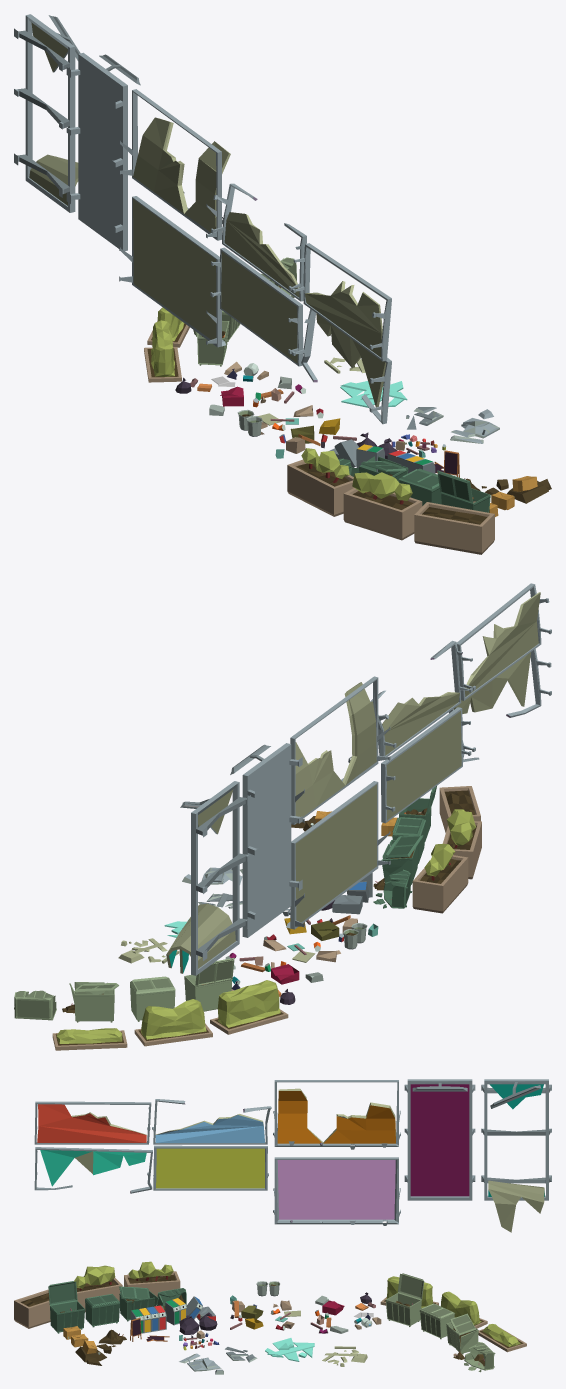
File: Proop5.fbx
3 views of the same model, one above another, from view 1: azimuth 30°, elevation 25°; view 2: azimuth 150°, elevation 25°; view 3: azimuth 270°, elevation 25° (orthographic). The views are drawn at different scales.
Visible parts, largest first — view 1: reklamnyy banner 7, reklamnyy banner 2, reklamnyy banner 1.001, reklamnyy banner 8, reklamnyy banner 3, reklamnyy banner 6, flowerbed 2, reklamnyy banner 5, flowerbed 3, flowerbed, reklamnyy banner 4, flowerbed _1 (+12 smaller); view 2: reklamnyy banner 7, reklamnyy banner 2, reklamnyy banner 8, reklamnyy banner 1.001, reklamnyy banner 3, reklamnyy banner 6, reklamnyy banner 5, flowerbed, flowerbed _1, flowerbed _2, reklamnyy banner 4, trash can 3.RC (+15 smaller); view 3: reklamnyy banner 2, reklamnyy banner 7, reklamnyy banner 3, reklamnyy banner 1.001, reklamnyy banner 8, reklamnyy banner 6, reklamnyy banner 5, reklamnyy banner 4, trash can, trash can.RC, flowerbed 2, flowerbed (+20 smaller).
Boxes of the visible parts, x1=… form: reklamnyy banner 7: x1=66, y1=52, x2=140, y2=250; reklamnyy banner 2: x1=119, y1=196, x2=225, y2=347; reklamnyy banner 1.001: x1=119, y1=89, x2=230, y2=240; reklamnyy banner 8: x1=14, y1=14, x2=80, y2=212; reklamnyy banner 3: x1=210, y1=247, x2=303, y2=366; reklamnyy banner 6: x1=291, y1=243, x2=391, y2=361; flowerbed 2: x1=343, y1=472, x2=422, y2=540; reklamnyy banner 5: x1=211, y1=183, x2=306, y2=301; flowerbed 3: x1=414, y1=502, x2=494, y2=554; flowerbed: x1=287, y1=448, x2=353, y2=516; reklamnyy banner 4: x1=291, y1=309, x2=391, y2=424; flowerbed _1: x1=144, y1=320, x2=181, y2=382; reklamnyy banner 7: x1=230, y1=743, x2=302, y2=937; reklamnyy banner 2: x1=282, y1=781, x2=390, y2=929; reklamnyy banner 8: x1=166, y1=781, x2=250, y2=975; reklamnyy banner 1.001: x1=290, y1=676, x2=390, y2=824; reklamnyy banner 3: x1=381, y1=707, x2=471, y2=823; reklamnyy banner 6: x1=456, y1=583, x2=551, y2=700; reklamnyy banner 5: x1=370, y1=640, x2=472, y2=756; flowerbed: x1=412, y1=843, x2=468, y2=913; flowerbed _1: x1=210, y1=980, x2=288, y2=1034; flowerbed _2: x1=134, y1=999, x2=212, y2=1046; reklamnyy banner 4: x1=448, y1=649, x2=551, y2=762; trash can 3.RC: x1=62, y1=982, x2=118, y2=1022; reklamnyy banner 2: x1=273, y1=1157, x2=400, y2=1225; reklamnyy banner 7: x1=404, y1=1079, x2=475, y2=1200; reklamnyy banner 3: x1=153, y1=1145, x2=268, y2=1190; reklamnyy banner 1.001: x1=273, y1=1080, x2=400, y2=1149; reklamnyy banner 8: x1=481, y1=1079, x2=551, y2=1232; reklamnyy banner 6: x1=34, y1=1101, x2=151, y2=1144; reklamnyy banner 5: x1=152, y1=1099, x2=271, y2=1144; reklamnyy banner 4: x1=34, y1=1147, x2=152, y2=1193; trash can: x1=48, y1=1281, x2=84, y2=1333; trash can.RC: x1=385, y1=1273, x2=424, y2=1326; flowerbed 2: x1=74, y1=1265, x2=122, y2=1312; flowerbed: x1=124, y1=1261, x2=180, y2=1296.
Bounding box in the file's own units: 884 × 998 × 2291.
